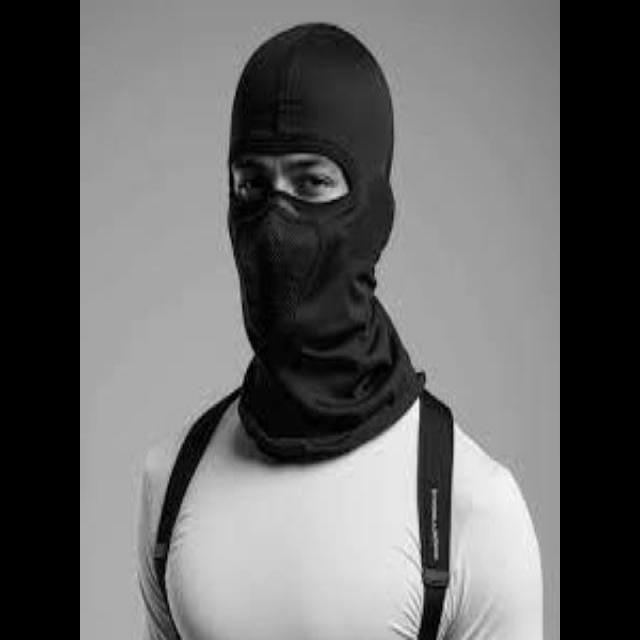6_pasamontana: (224, 20, 427, 462)
